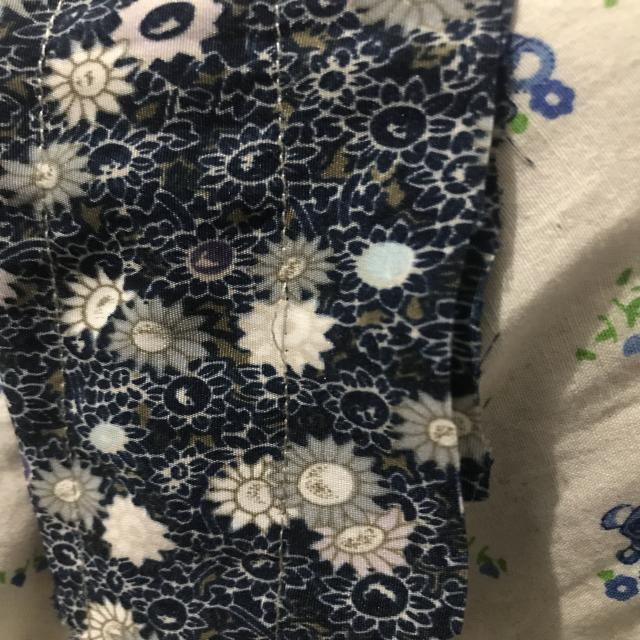skip: (249, 264, 306, 374)
